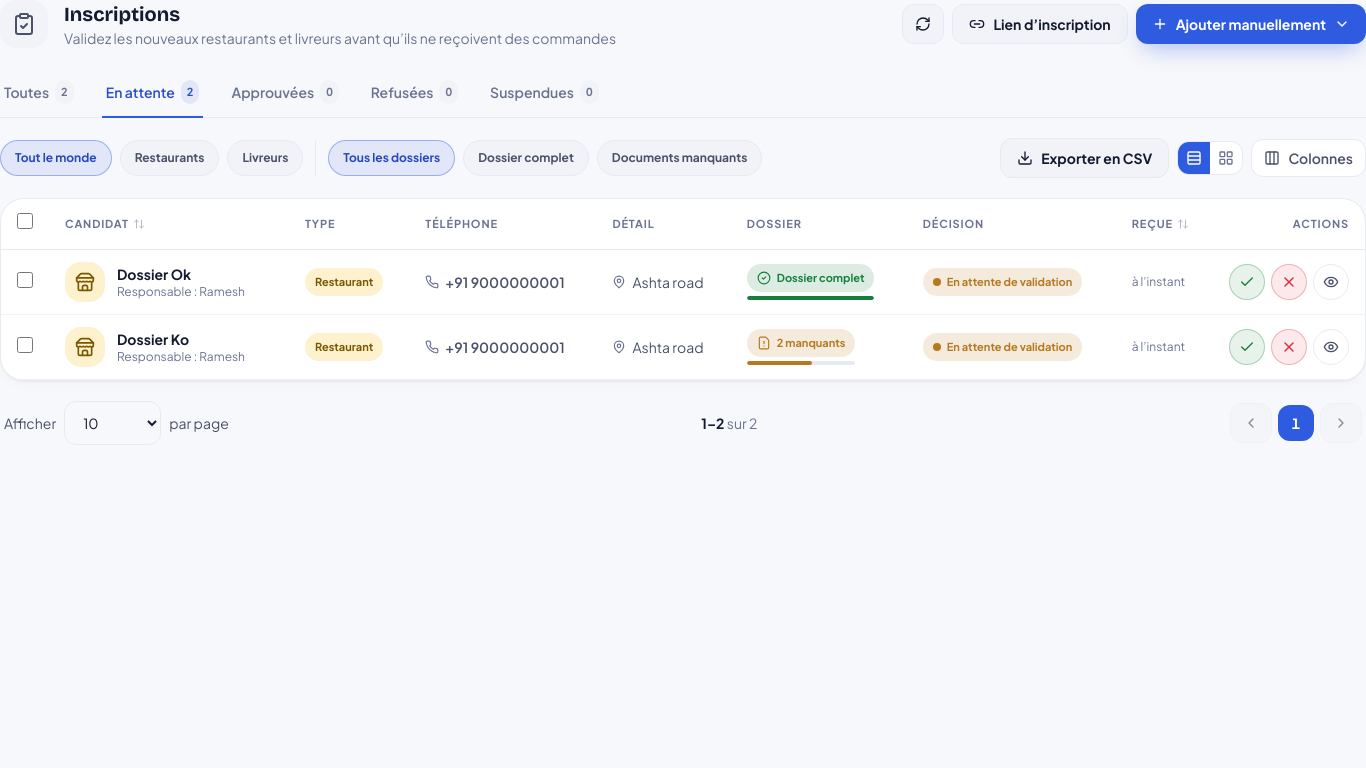
Test: ApplicationsPanel file check (dossier) › table: shows the file state and filters on "Documents manquants"
Step 1. Click the button "Documents manquants" → (680, 158), box [597,140,762,176]
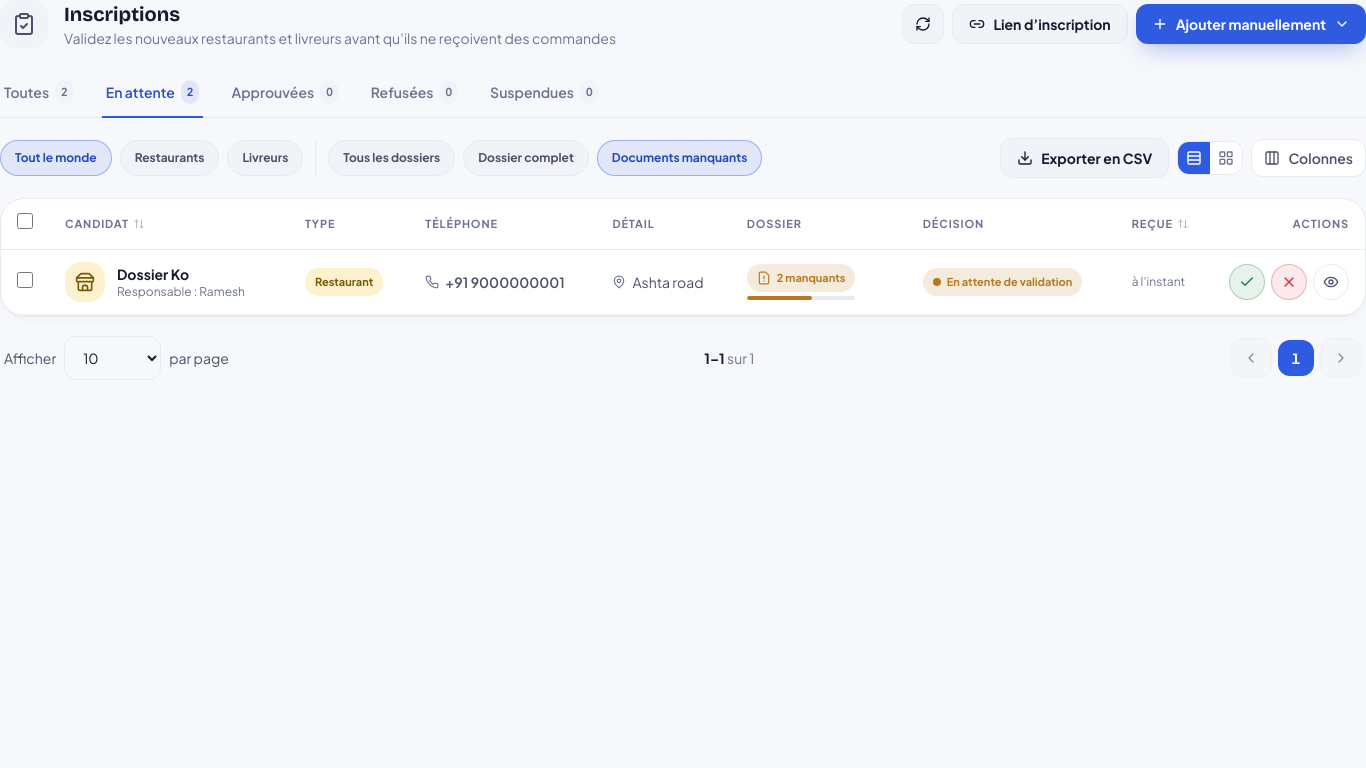
Expected: the text "Dossier Ko" is shown, [117,265,189,283]
Step 2. Click the row named "Ouvrir le détail de Dossier Ko" → (683, 282), box [1,250,1365,315]
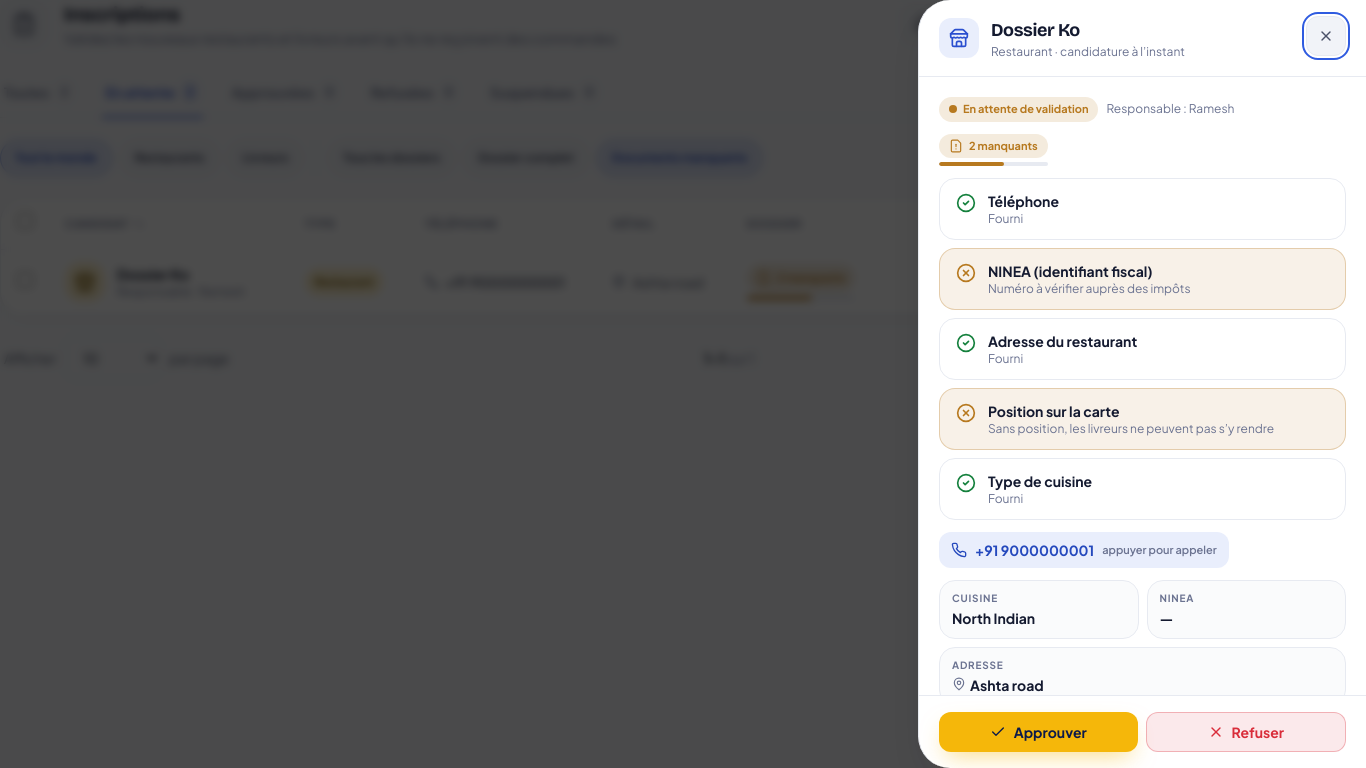
Expected: the list named "Contrôle du dossier" shows "NINEA (identifiant fiscal)", [988,262,1153,280]
